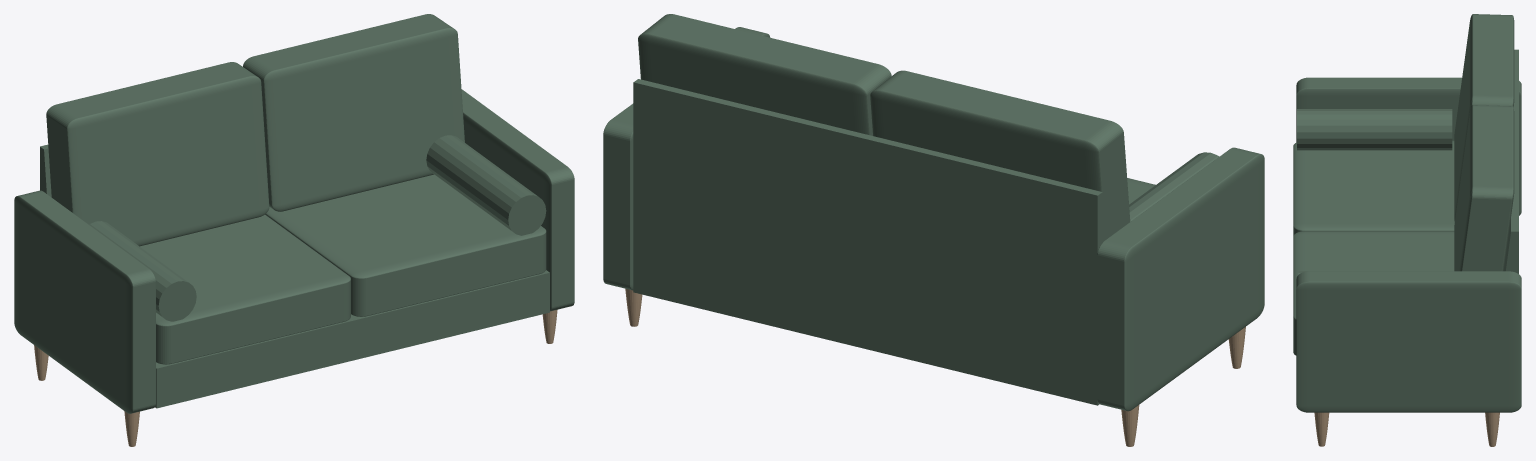
File: couch.glb
3 renders of one model, left to right at view 1: azimuth 30°, elevation 25°; view 2: azimuth 150°, elevation 25°; view 3: azimuth 270°, elevation 25°, orthographic. The views are drawn at different scales.
Visible parts, largest first — view 1: Mesh_Mesh_head_geo.001_lambert2SG.001; view 2: Mesh_Mesh_head_geo.001_lambert2SG.001; view 3: Mesh_Mesh_head_geo.001_lambert2SG.001.
Boxes of the visible parts, box(x1,y1,x2,y2) form: Mesh_Mesh_head_geo.001_lambert2SG.001: box(14, 14, 574, 446); Mesh_Mesh_head_geo.001_lambert2SG.001: box(603, 14, 1264, 446); Mesh_Mesh_head_geo.001_lambert2SG.001: box(1293, 14, 1521, 446).
Size of the model in its own units: 90.61 by 51 by 42.56.
